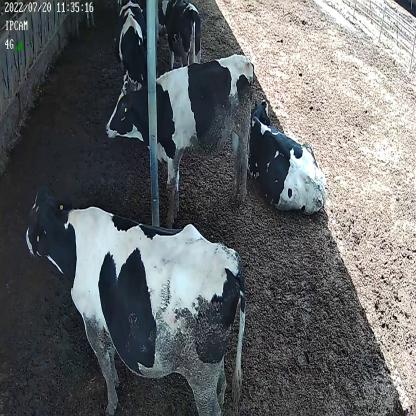cow: (25, 181, 247, 416), (103, 52, 256, 222), (250, 96, 326, 216), (116, 2, 149, 93), (166, 0, 204, 68)
